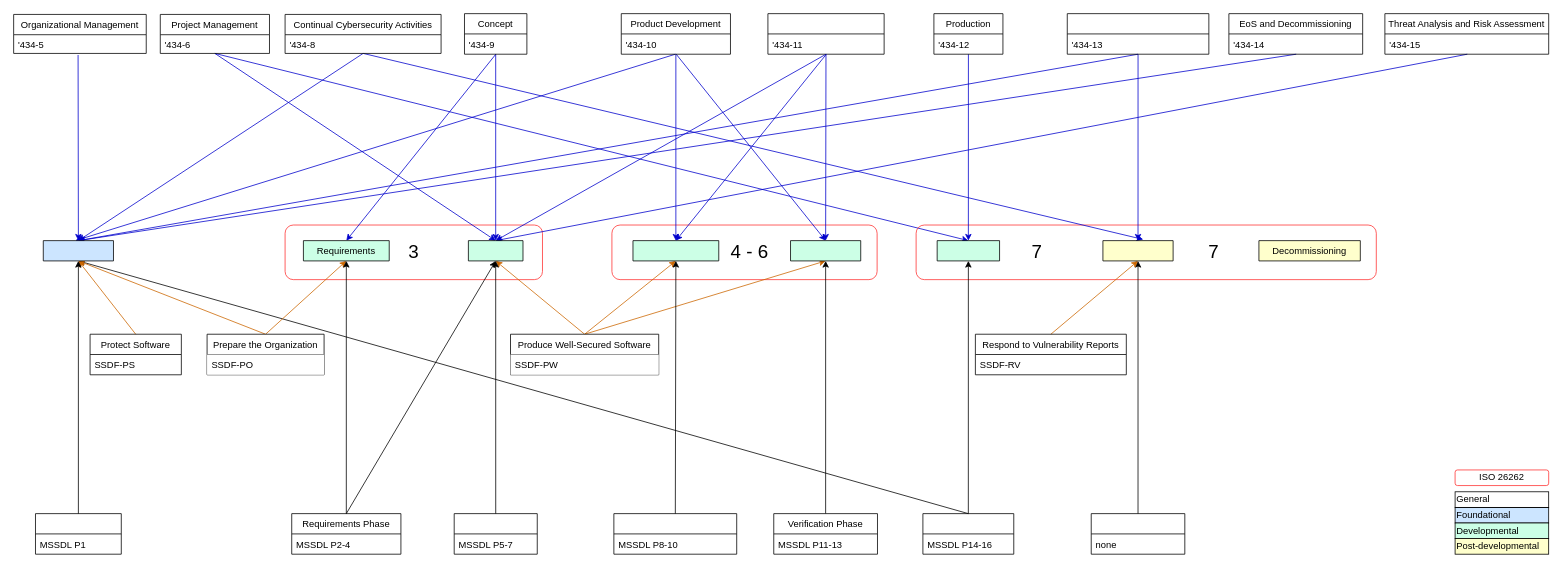
Some shapes in this 1562 by 570 pixel diagram are drawn without their labels. Here are the shapes that lost their labels. From the top down, the box of each, then its label:
(767, 13, 884, 54): Cybersecurity Validation
(1066, 13, 1209, 54): Operations and Maintenance
(43, 240, 113, 261): Foundation
(468, 240, 523, 261): Design
(632, 240, 719, 261): Implementation
(790, 240, 861, 261): Verification
(936, 240, 1000, 261): Release
(1102, 240, 1173, 261): Operation
(35, 513, 121, 554): Training Phase
(453, 513, 537, 554): Design Phase
(613, 513, 737, 554): Implementation Phase
(922, 513, 1014, 554): Release Phase
(1090, 513, 1185, 554): Response Phase
